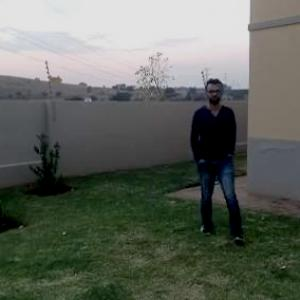follow: (189, 75, 242, 229)
